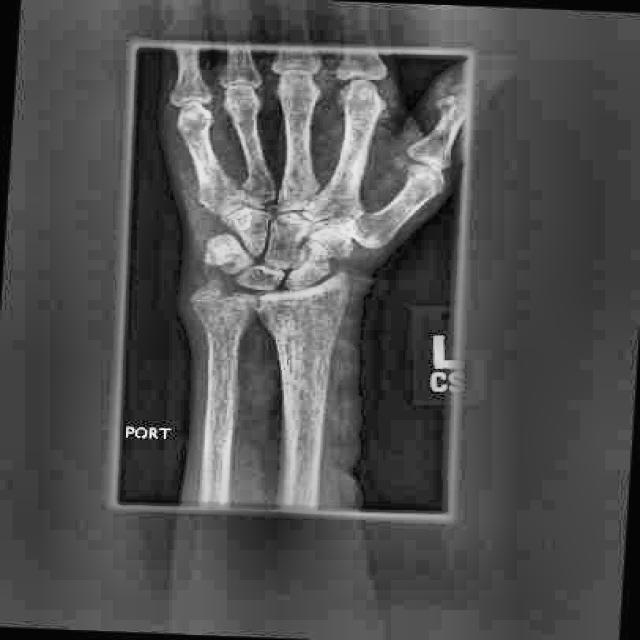fingers positive: (309, 283, 357, 341), (297, 248, 355, 286)
